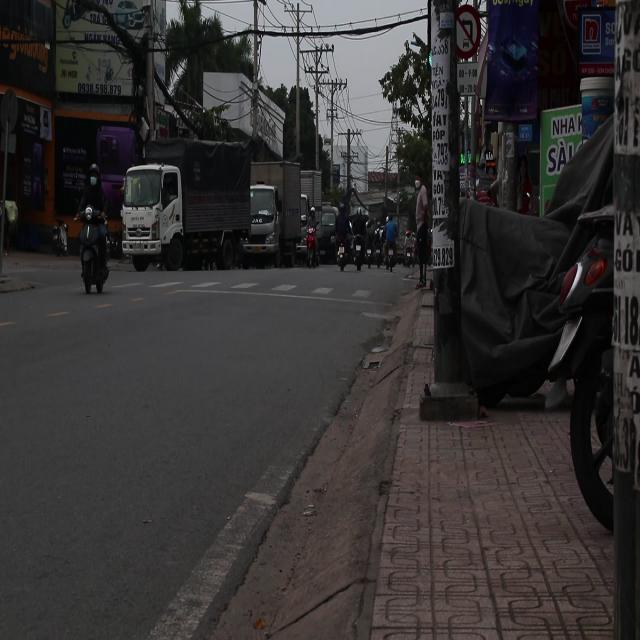car: (314, 210, 337, 265)
motorbike: (72, 207, 111, 296)
truck: (120, 137, 254, 273), (248, 162, 310, 268)
